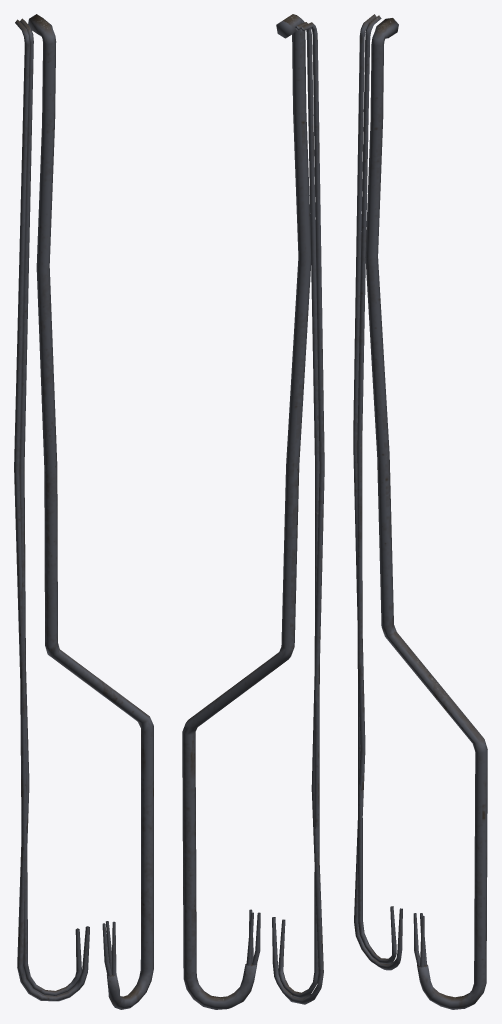
File: WallDuct_A.fbx
3 views of the same model, side by side, from view 1: azimuth 30°, elevation 25°; view 2: azimuth 150°, elevation 25°; view 3: azimuth 330°, elevation 25° (orthographic). The views are drawn at different scales.
Parts seen in each view (by area): view 1: WallDuct_A; view 2: WallDuct_A; view 3: WallDuct_A.
Boxes of the visible parts, <box> form: WallDuct_A: <box>14,14,153,1009</box>; WallDuct_A: <box>182,14,324,1009</box>; WallDuct_A: <box>353,14,487,1009</box>.
Size of the model in its own units: 28.84 by 199 by 9.04.
Materials: 1 (1 with a texture image).
